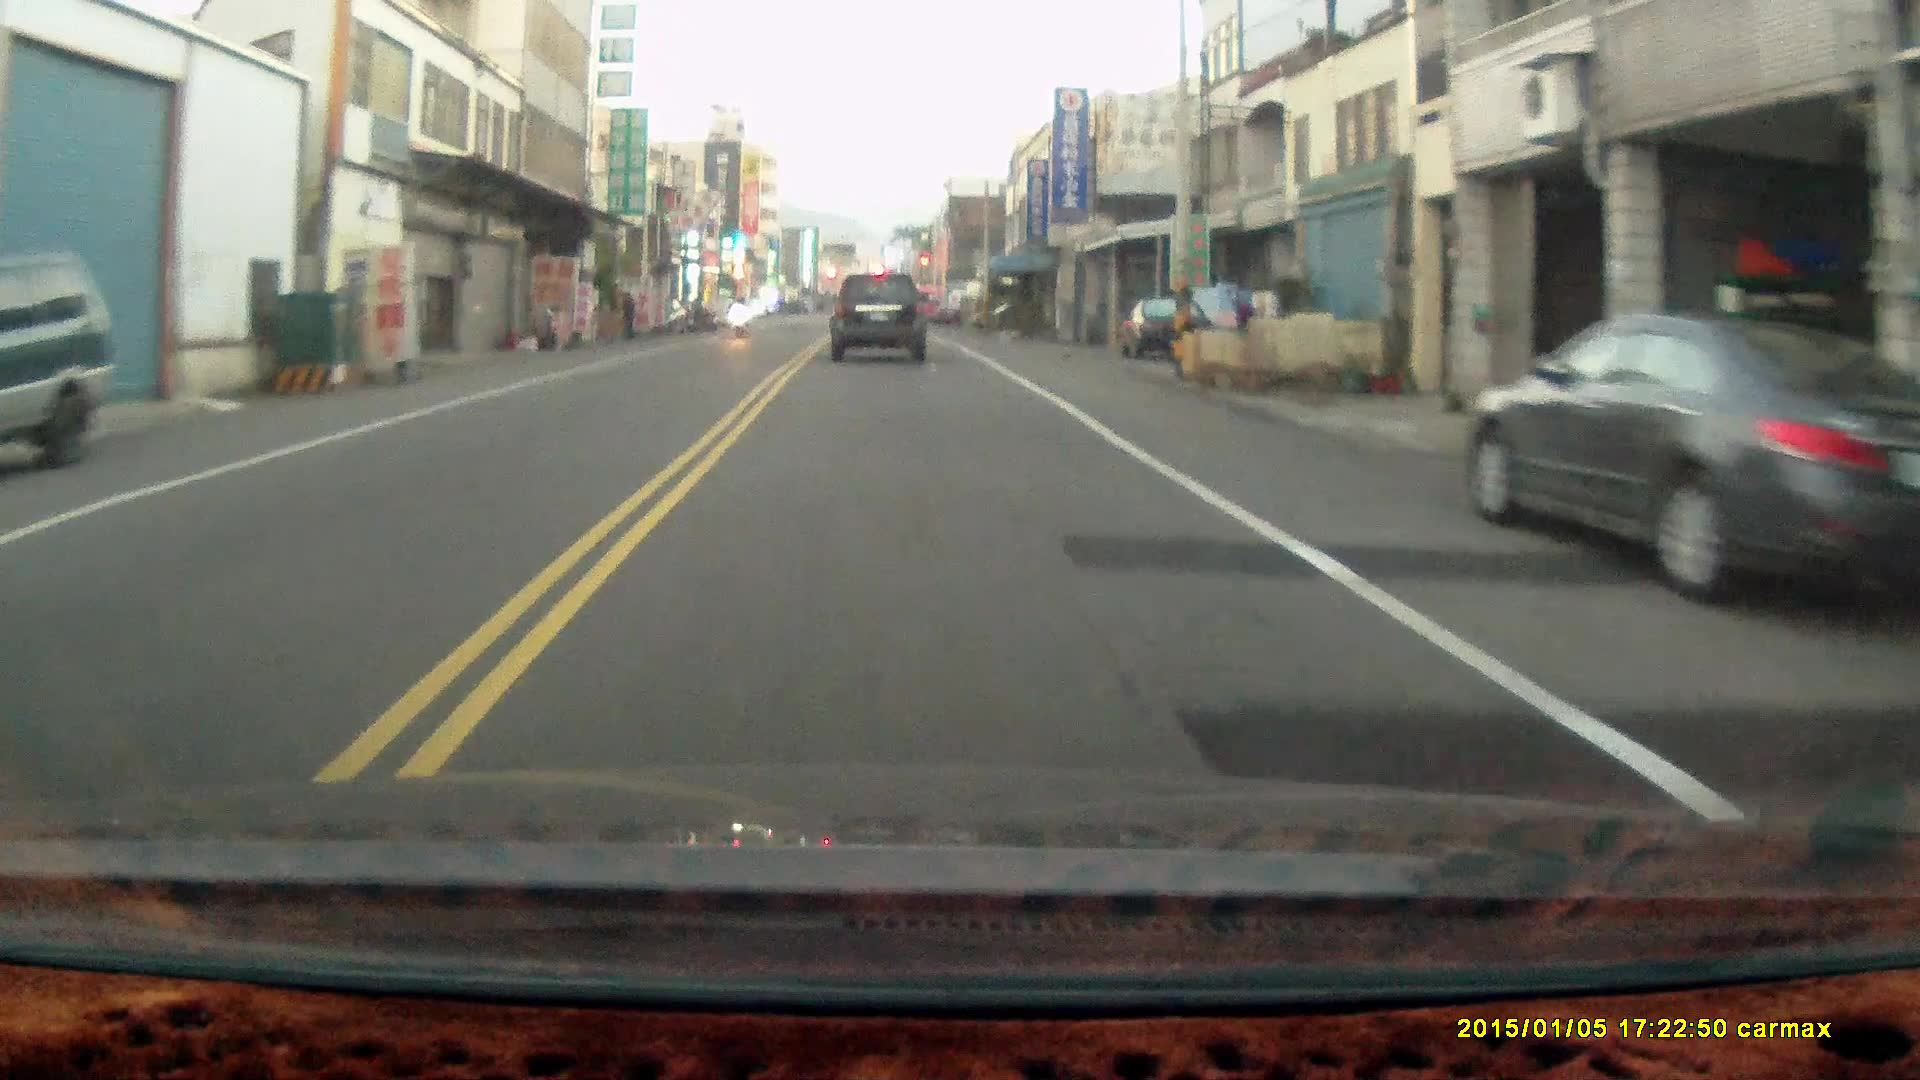pedestrian: (616, 288, 637, 339)
rider: (723, 287, 750, 336)
vehicle: (1462, 311, 1920, 617), (1, 250, 121, 477), (829, 276, 929, 370), (1120, 297, 1217, 363)
